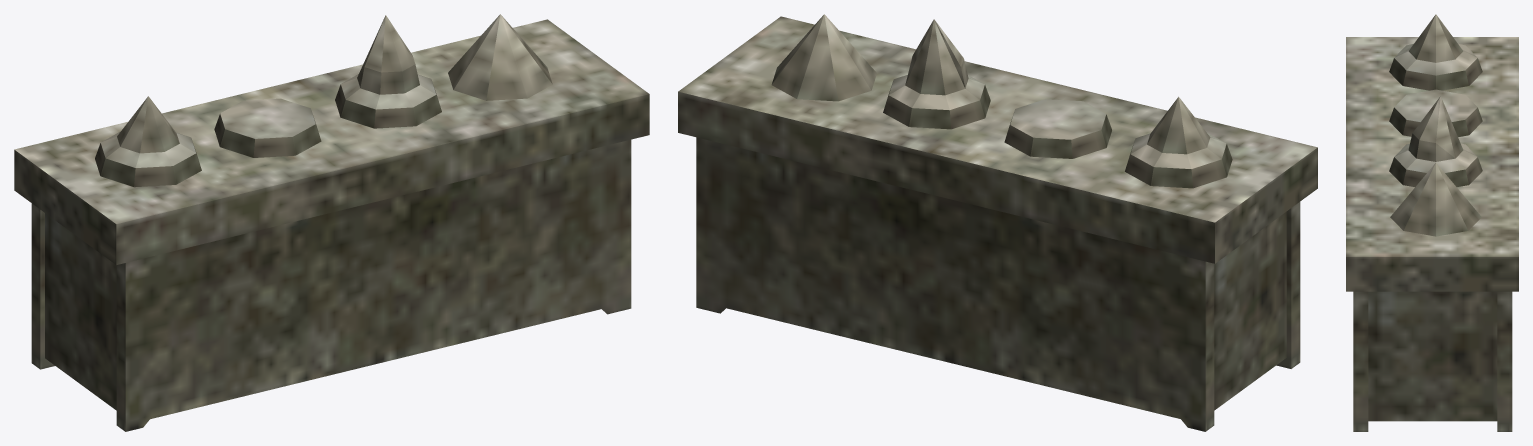
File: general_obj_stonebox.glb
3 renders of one model, left to right at view 1: azimuth 30°, elevation 25°; view 2: azimuth 150°, elevation 25°; view 3: azimuth 270°, elevation 25°, orthographic. The views are drawn at different scales.
Parts seen in each view (by area): view 1: Object03; view 2: Object03; view 3: Object03.
Part boxes in pixels (x1,y1,x2,y2): Object03: (14, 14, 649, 431); Object03: (678, 14, 1317, 431); Object03: (1346, 14, 1518, 431).
Size of the model in its own units: 2.94 by 1.59 by 0.974.
1 material, 1 textured.
